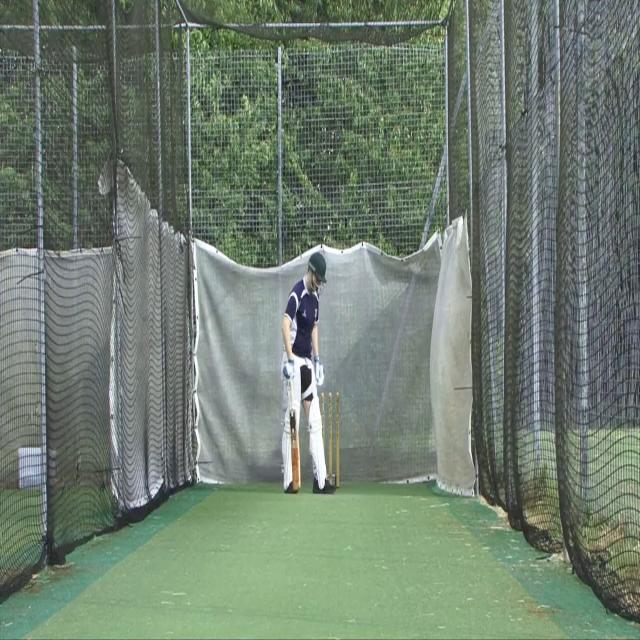batsman: (279, 249, 337, 497)
